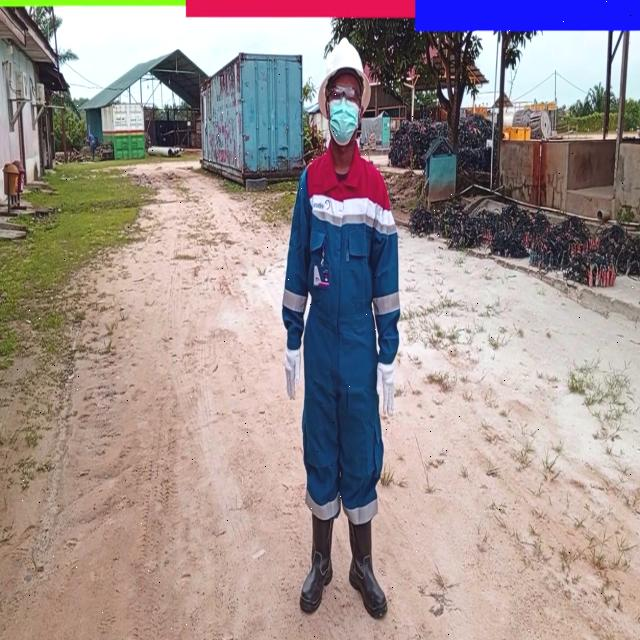Gloves: (373, 364, 397, 422), (286, 346, 302, 400)
Hardhat: (314, 36, 372, 109)
Mask: (329, 100, 360, 147)
Overall Suit: (282, 150, 401, 515)
Safety Boots: (348, 520, 388, 619), (298, 515, 333, 612)
